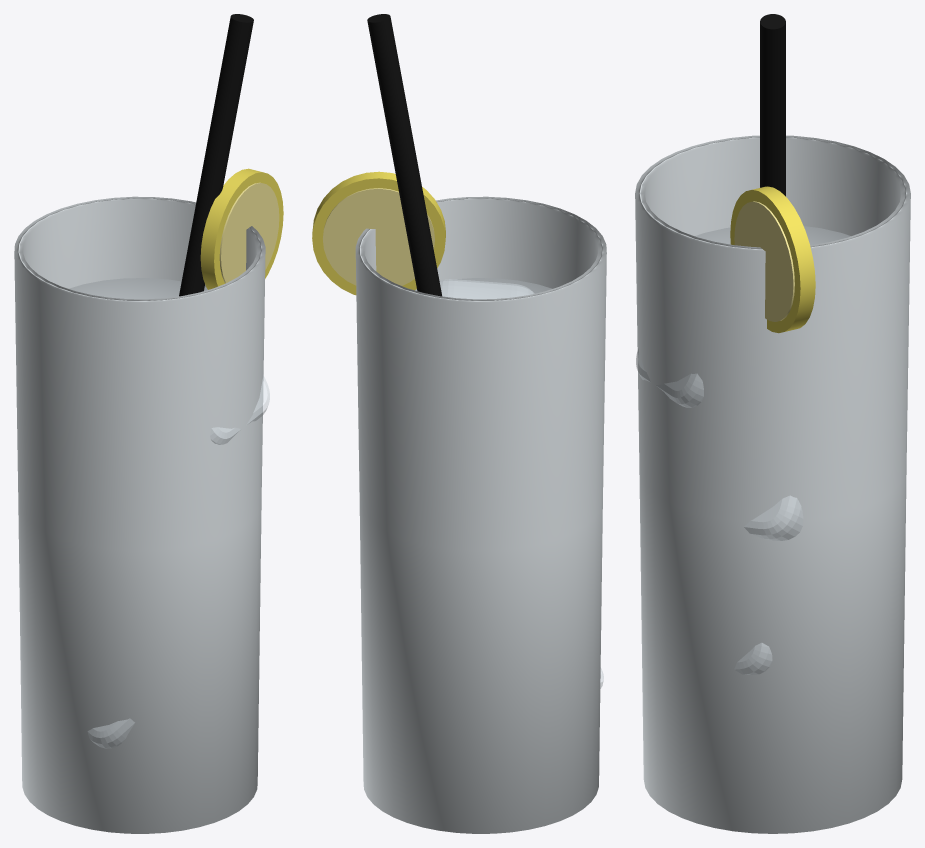
Rendered from cocktail-vodka-tonic.glb.
3 views of the same model, side by side, from view 1: azimuth 30°, elevation 25°; view 2: azimuth 150°, elevation 25°; view 3: azimuth 270°, elevation 25° (orthographic). The views are drawn at different scales.
Bounding box in the file's own units: 0.0779 × 0.2086 × 0.064.
